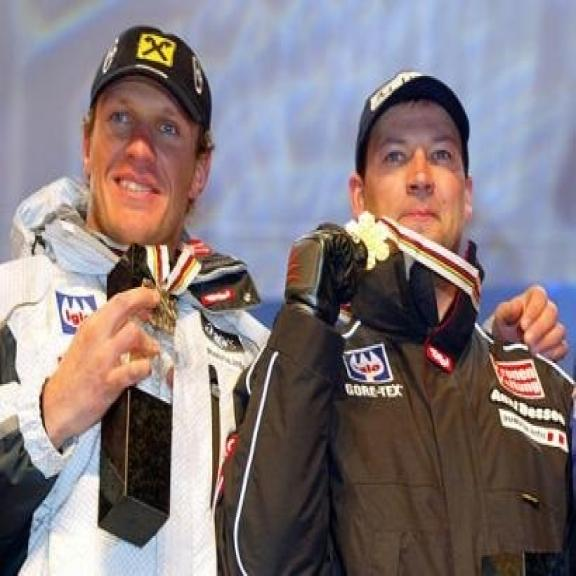face: (78, 35, 214, 246), (346, 81, 479, 260)
